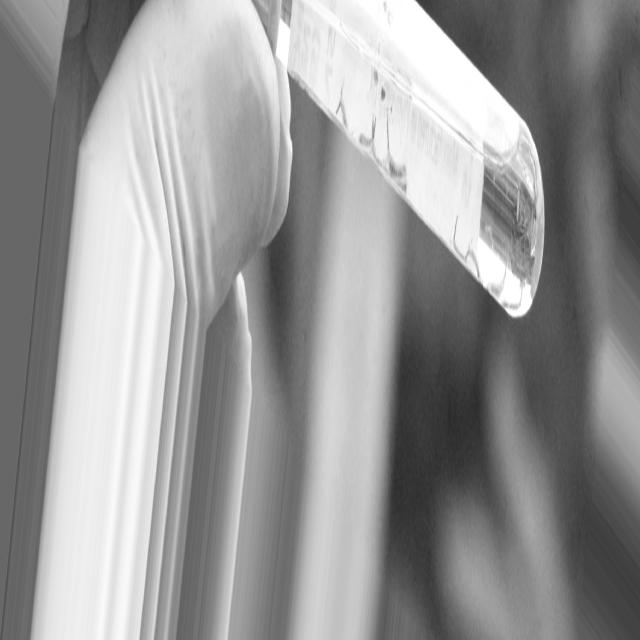larvas: (452, 217, 479, 276), (384, 115, 407, 178), (490, 253, 506, 298), (506, 276, 525, 310), (359, 119, 378, 145), (337, 90, 348, 128), (372, 147, 384, 167)
